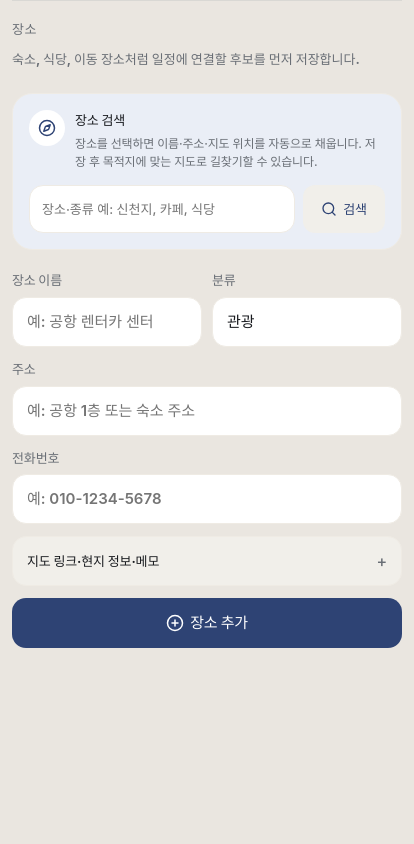
Test: ManagePlaceCreateForm › 검색 응답을 기다리는 동안 Enter를 반복해도 Places 요청을 하나만 보낸다
Type "카페" into the field with placeholder "장소·종류 예: 신천지, 카페, 식당" at coordinates (162, 209), box left=29, top=185, right=295, bottom=233
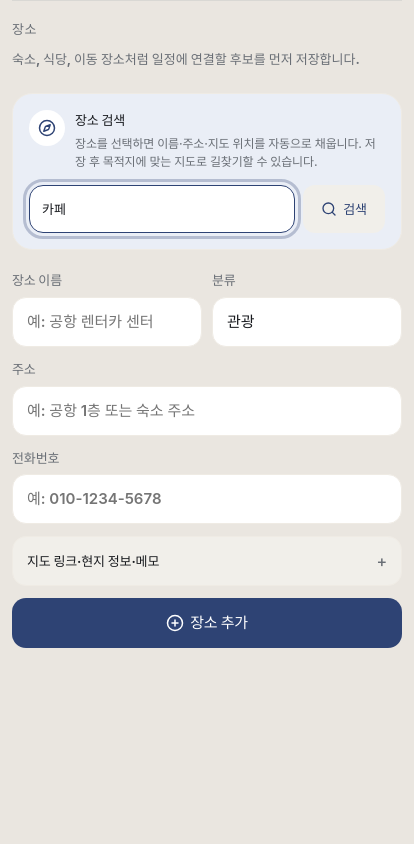
Press Enter
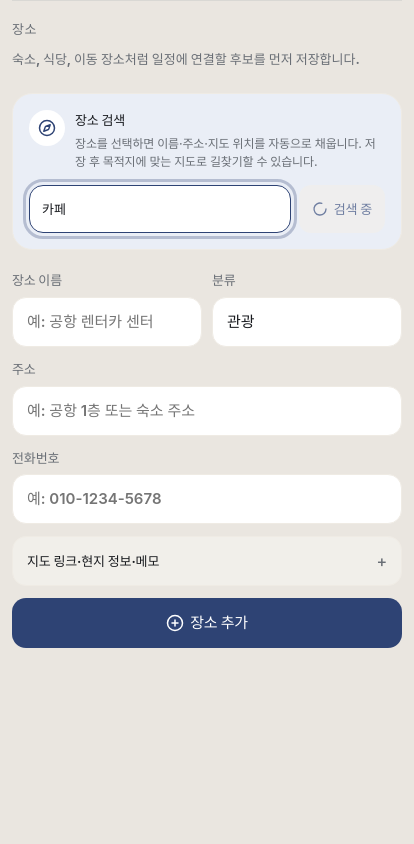
Press Enter
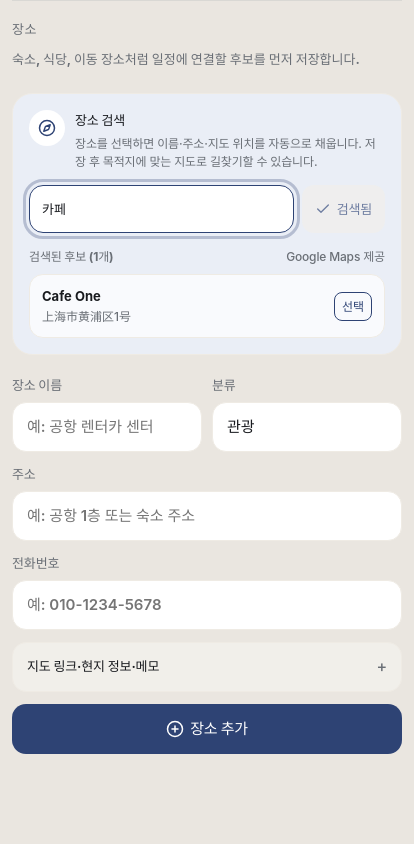
expect the text "Cafe One" is shown: met, box left=42, top=288, right=101, bottom=304
